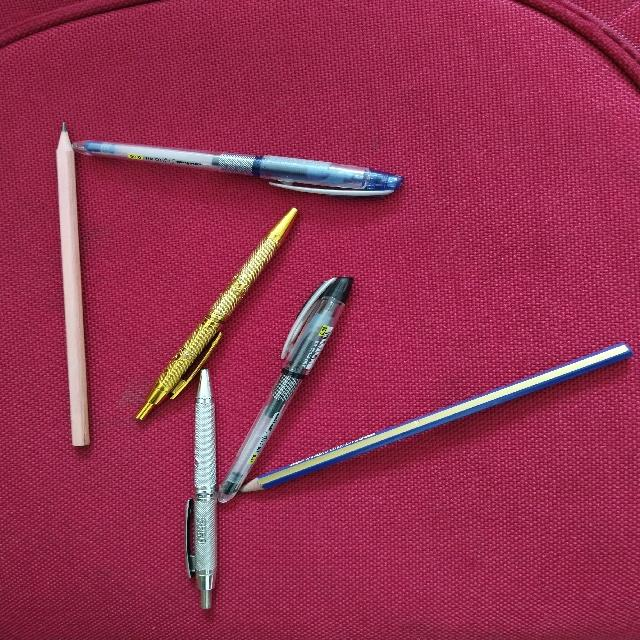pen: (218, 277, 352, 501), (73, 141, 402, 195)
pencil: (241, 343, 632, 491), (56, 123, 89, 445)
signature pen: (136, 208, 296, 419), (185, 369, 216, 608)
